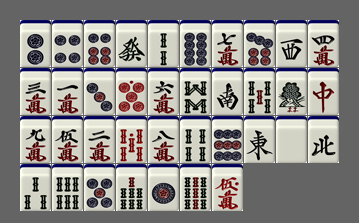0m: (212, 164, 243, 211)
0p: (116, 68, 147, 115)
0s: (116, 116, 147, 163)
1m: (52, 68, 83, 115)
1p: (148, 164, 179, 211)
1s: (276, 68, 307, 115)
1z: (244, 116, 275, 163)
2m: (84, 116, 115, 163)
2p: (20, 20, 51, 67)
2s: (148, 20, 179, 67)
2z: (212, 68, 243, 115)
3m: (20, 68, 51, 115)
3p: (84, 68, 115, 115)
3s: (20, 164, 51, 211)
3z: (276, 20, 307, 67)
4m: (308, 20, 339, 67)
4p: (52, 20, 83, 67)
4s: (180, 116, 211, 163)
4z: (308, 116, 339, 163)
5m: (52, 116, 83, 163)
5p: (84, 164, 115, 211)
5s: (244, 68, 275, 115)
5z: (276, 116, 307, 163)
6m: (148, 68, 179, 115)
6p: (84, 20, 115, 67)
6s: (52, 164, 83, 211)
6z: (116, 20, 147, 67)
7m: (212, 20, 243, 67)
7p: (244, 20, 275, 67)
7s: (116, 164, 147, 211)
7z: (308, 68, 339, 115)
8m: (148, 116, 179, 163)
8p: (180, 20, 211, 67)
8s: (180, 68, 211, 115)
9m: (20, 116, 51, 163)
9p: (212, 116, 243, 163)
9s: (180, 164, 211, 211)
